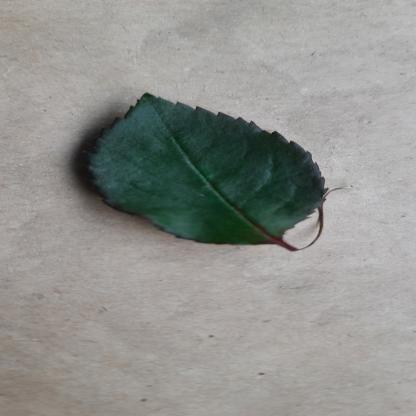normal: (77, 90, 332, 248)
